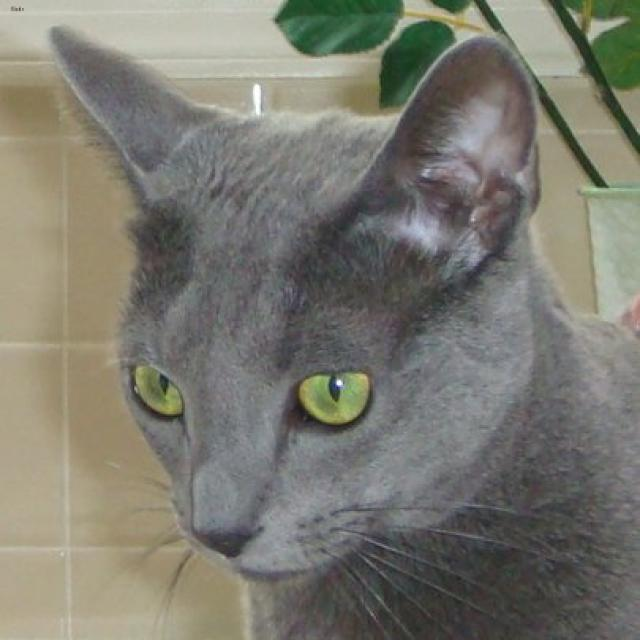Russian_Blue: (39, 21, 552, 598)
